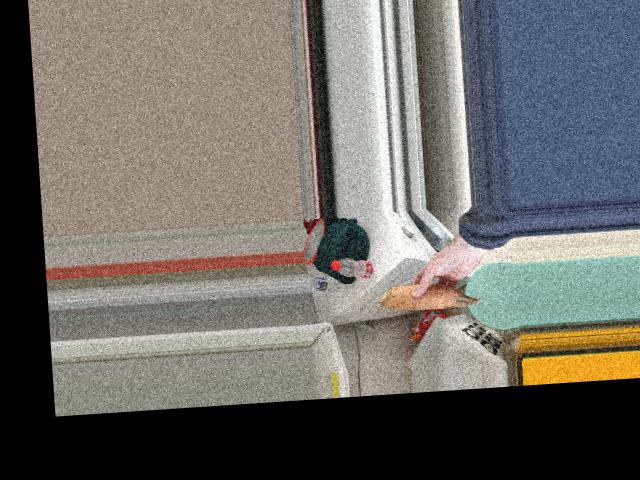sweet_potato: (384, 274, 481, 314)
